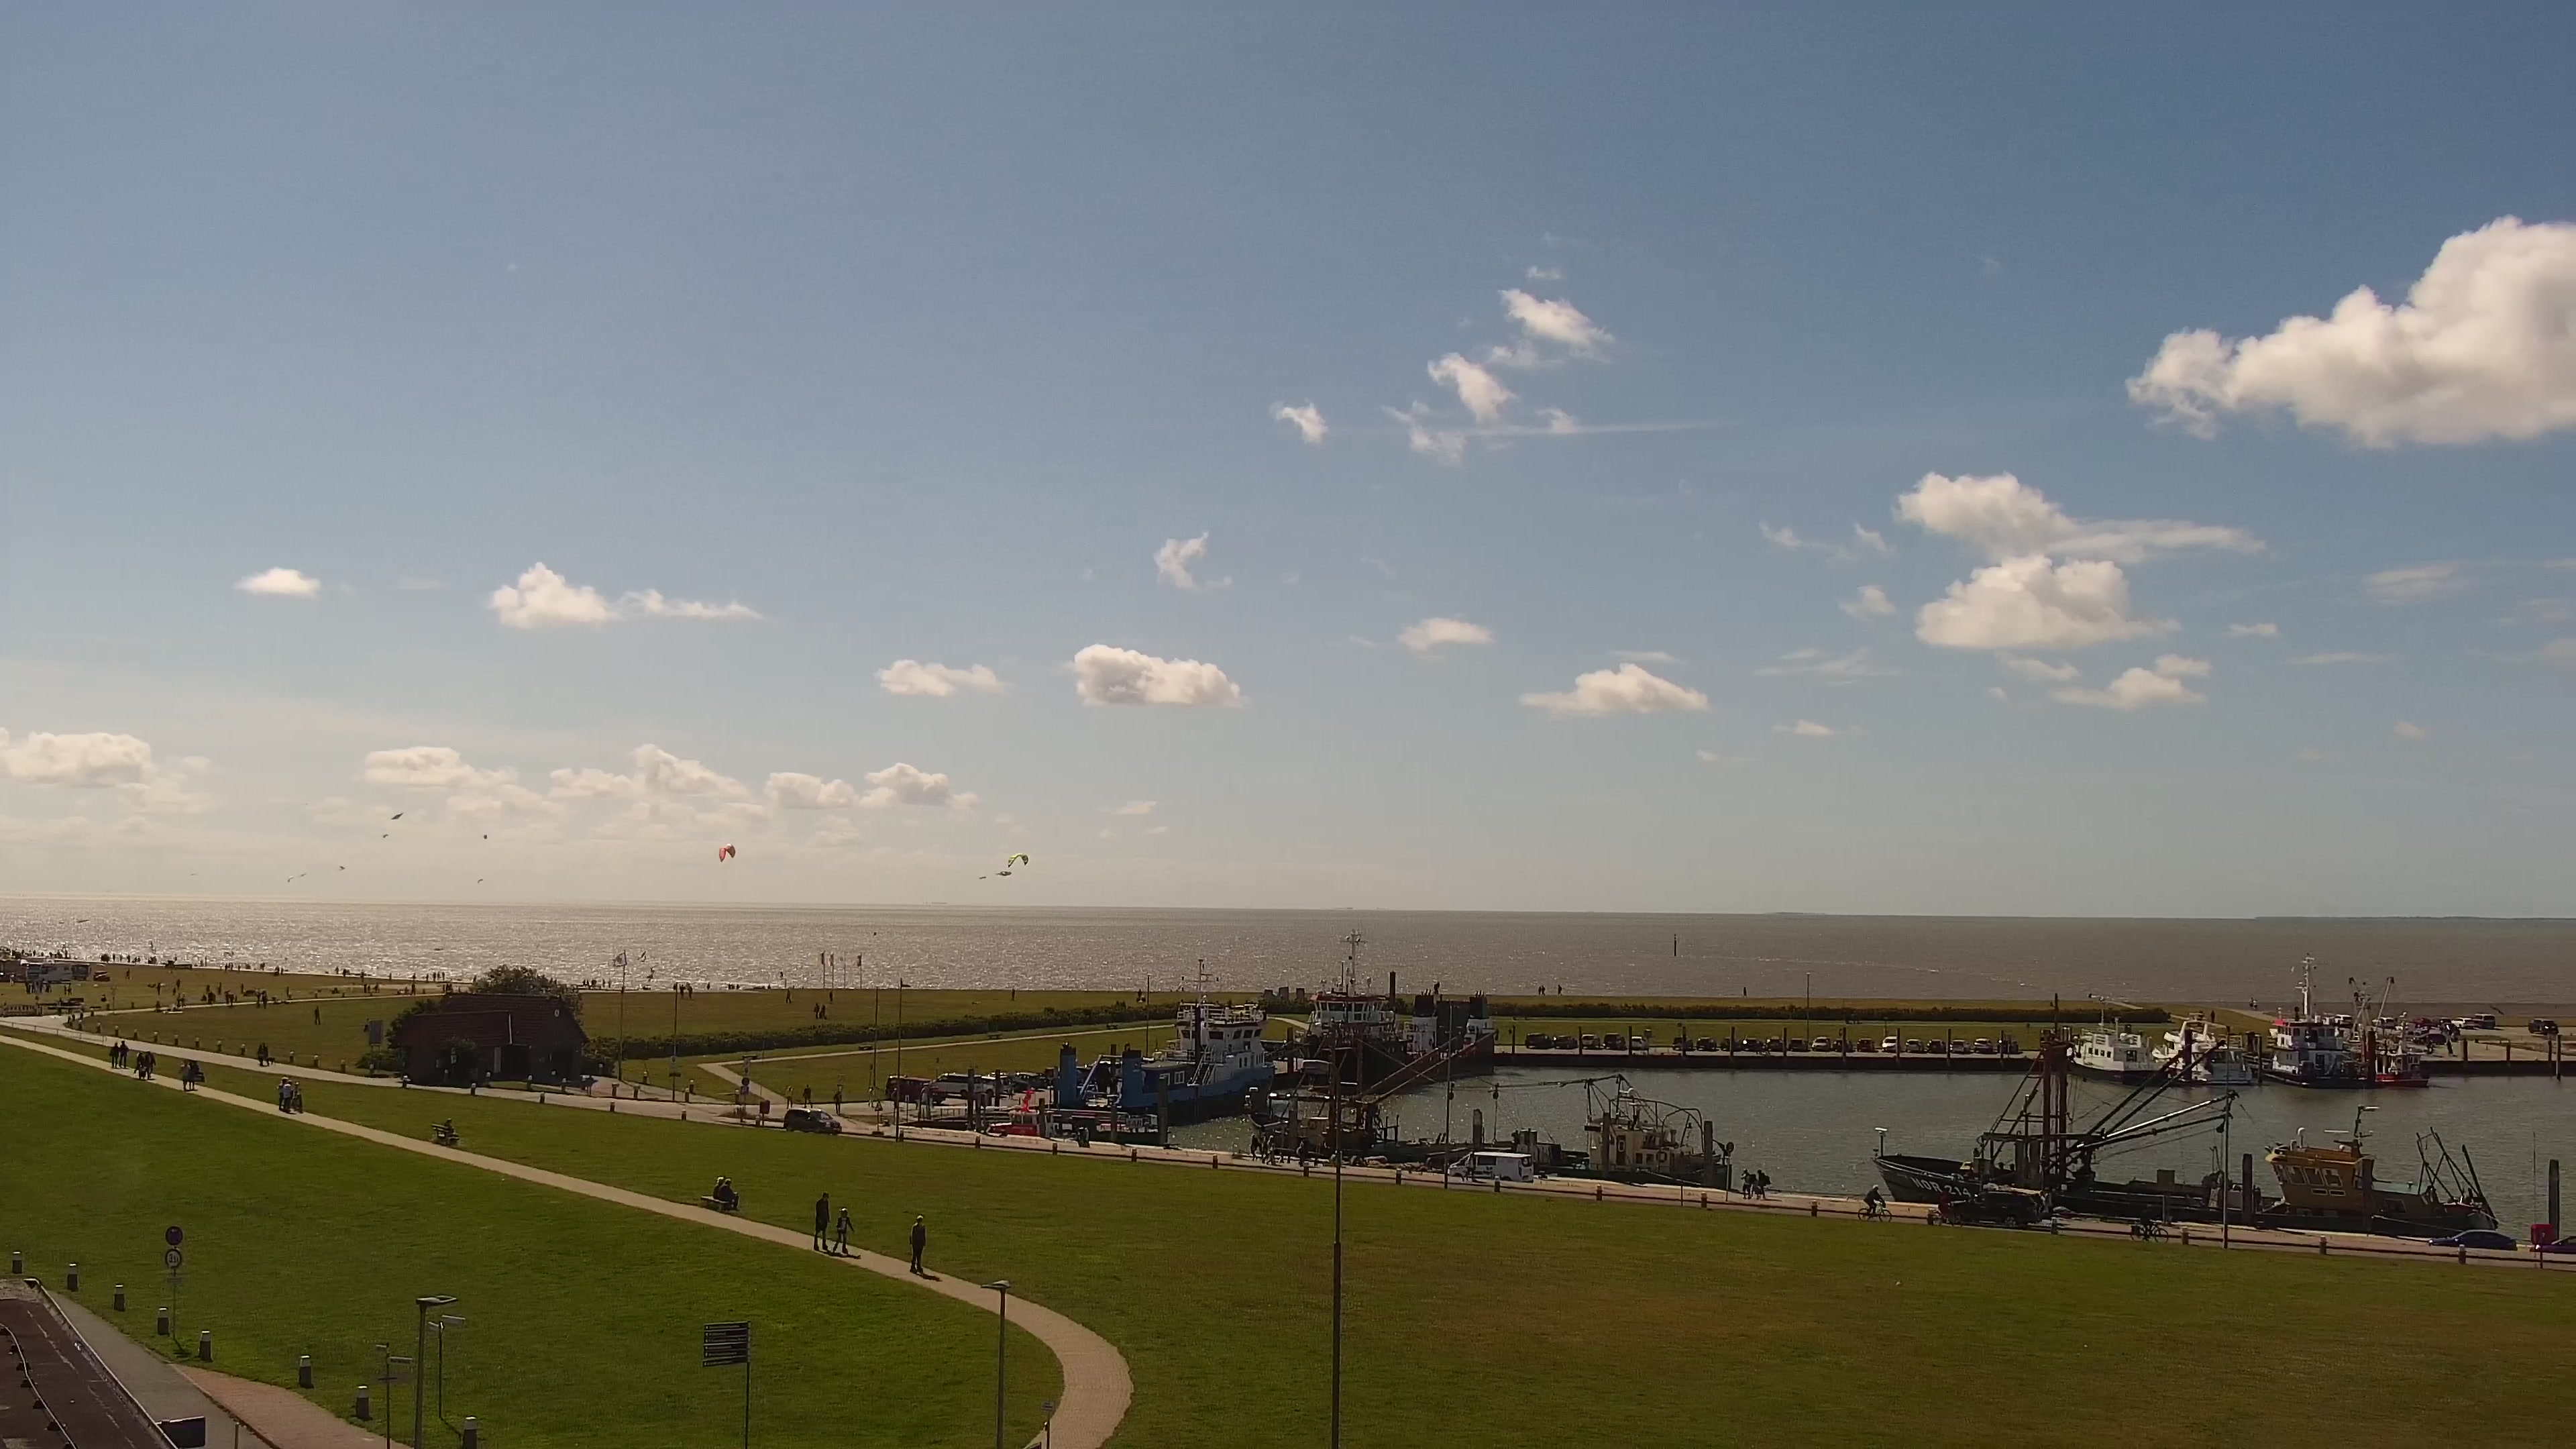human: (832, 1207, 855, 1254), (910, 1214, 926, 1275), (814, 1191, 830, 1250), (717, 1177, 739, 1212), (2139, 1203, 2155, 1243), (1866, 1184, 1882, 1218), (1938, 1186, 1951, 1224), (276, 1074, 288, 1111), (1757, 1169, 1771, 1199), (178, 1058, 191, 1090), (144, 1049, 156, 1081), (187, 1059, 199, 1090), (283, 1079, 293, 1114), (712, 1175, 724, 1199), (291, 1081, 302, 1114), (802, 1083, 813, 1109), (117, 1039, 128, 1067), (109, 1040, 119, 1068), (1740, 1167, 1750, 1199), (136, 1051, 146, 1080), (443, 1118, 456, 1137), (834, 1089, 842, 1116), (1295, 1141, 1305, 1167), (1748, 1173, 1758, 1199), (785, 1084, 794, 1109), (262, 1041, 270, 1066), (2446, 1039, 2455, 1057), (256, 1042, 264, 1065), (313, 1004, 321, 1026), (586, 1074, 593, 1095), (818, 1004, 826, 1020), (261, 989, 267, 1008), (425, 971, 437, 981), (686, 982, 693, 999), (176, 993, 182, 1008), (678, 983, 685, 998), (223, 990, 230, 1005), (255, 989, 260, 1006), (785, 987, 792, 1004), (813, 1001, 820, 1019), (180, 993, 186, 1008), (229, 992, 234, 1008), (217, 981, 222, 996), (1010, 987, 1016, 1003), (40, 981, 44, 994), (828, 989, 834, 1004), (2210, 1010, 2215, 1024), (66, 982, 72, 995), (156, 981, 161, 994), (155, 1000, 160, 1012), (29, 981, 34, 994), (34, 981, 39, 993), (411, 983, 417, 995), (1137, 988, 1142, 1001), (1558, 983, 1562, 996), (1541, 984, 1546, 996), (2253, 998, 2258, 1010), (2249, 996, 2254, 1008), (176, 978, 180, 988), (125, 967, 130, 978), (26, 984, 32, 995), (42, 984, 48, 994), (360, 970, 365, 981), (342, 967, 346, 976), (436, 970, 440, 979), (706, 981, 710, 991), (205, 983, 210, 993), (46, 983, 51, 993), (388, 971, 392, 980), (373, 981, 379, 991), (261, 962, 265, 971), (334, 965, 339, 975), (63, 983, 66, 994), (1537, 984, 1542, 996), (1743, 986, 1747, 998), (367, 983, 370, 992), (240, 982, 245, 993), (441, 969, 445, 980), (601, 977, 606, 987), (606, 977, 611, 987), (582, 977, 586, 987), (171, 985, 176, 995), (111, 951, 115, 961), (127, 953, 131, 963), (413, 971, 416, 981), (237, 963, 241, 971), (231, 961, 234, 969), (224, 962, 228, 971), (735, 982, 740, 990), (21, 948, 25, 955), (280, 966, 284, 973), (586, 978, 589, 986), (727, 981, 731, 989), (730, 983, 734, 989), (364, 981, 367, 991), (33, 949, 36, 956)
land: (1947, 1191, 2043, 1230), (1446, 1150, 1533, 1183), (2428, 1228, 2518, 1251), (883, 1074, 945, 1104), (782, 1108, 841, 1135), (929, 1072, 982, 1099), (23, 961, 75, 984), (1858, 1199, 1892, 1224), (987, 1071, 1027, 1093), (2129, 1220, 2169, 1242), (2530, 1234, 2576, 1252), (1695, 1035, 1742, 1051), (1926, 1207, 1962, 1227), (2527, 1017, 2559, 1035), (1523, 1030, 1551, 1049), (1601, 1031, 1625, 1051), (1014, 1071, 1040, 1090), (2410, 1032, 2446, 1046), (1552, 1034, 1578, 1049), (1925, 1037, 1945, 1054), (1996, 1038, 2019, 1054), (2471, 1013, 2495, 1029), (1742, 1036, 1763, 1052), (1811, 1036, 1831, 1052), (1578, 1032, 1600, 1049), (1949, 1039, 1971, 1055), (1765, 1036, 1783, 1052), (1882, 1036, 1900, 1053), (1974, 1038, 1994, 1054), (2451, 1017, 2475, 1029), (2371, 1016, 2396, 1028), (2438, 1022, 2460, 1035), (1789, 1038, 1809, 1052), (1832, 1038, 1853, 1053), (1856, 1038, 1875, 1053), (1904, 1038, 1923, 1053), (1671, 1036, 1694, 1050), (2332, 1014, 2353, 1026), (2430, 1016, 2450, 1028), (2409, 1017, 2432, 1029), (1629, 1034, 1647, 1050), (981, 1075, 995, 1095)
sea: (1869, 1025, 2498, 1238), (1239, 1000, 1734, 1191), (1057, 957, 1274, 1116), (1291, 927, 1494, 1073), (2241, 951, 2369, 1089), (2065, 1007, 2168, 1085), (2149, 1012, 2253, 1085), (983, 1108, 1157, 1145), (2365, 1026, 2432, 1089)
